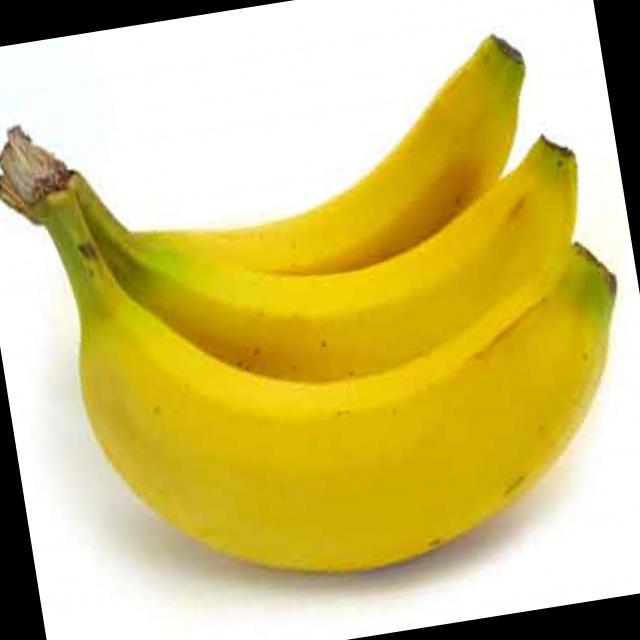banana: (20, 229, 640, 640), (132, 118, 629, 435), (125, 29, 554, 332)
